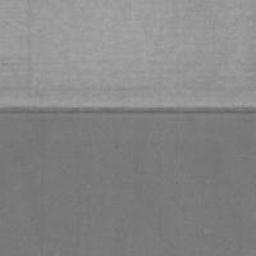Welding line: (0, 105, 256, 116)
